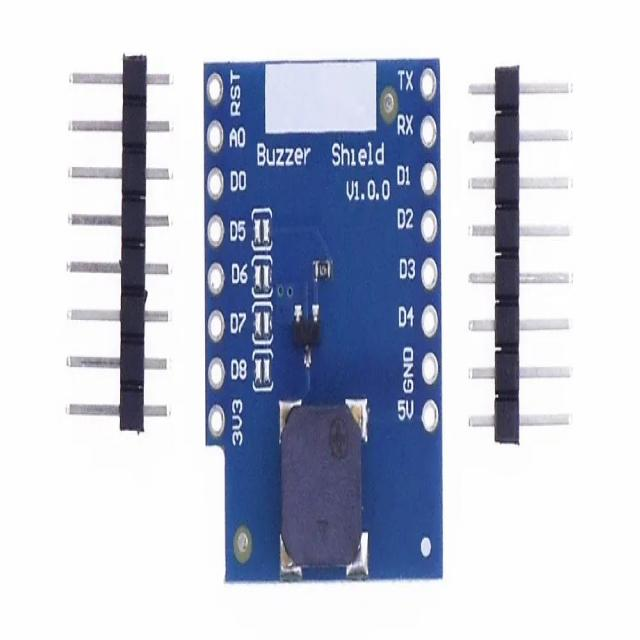4439: (294, 300, 326, 371)
buzzer: (280, 402, 370, 575)
connector -5v-: (60, 42, 185, 443), (464, 62, 580, 457)
resistor IR1: (313, 260, 335, 289)
